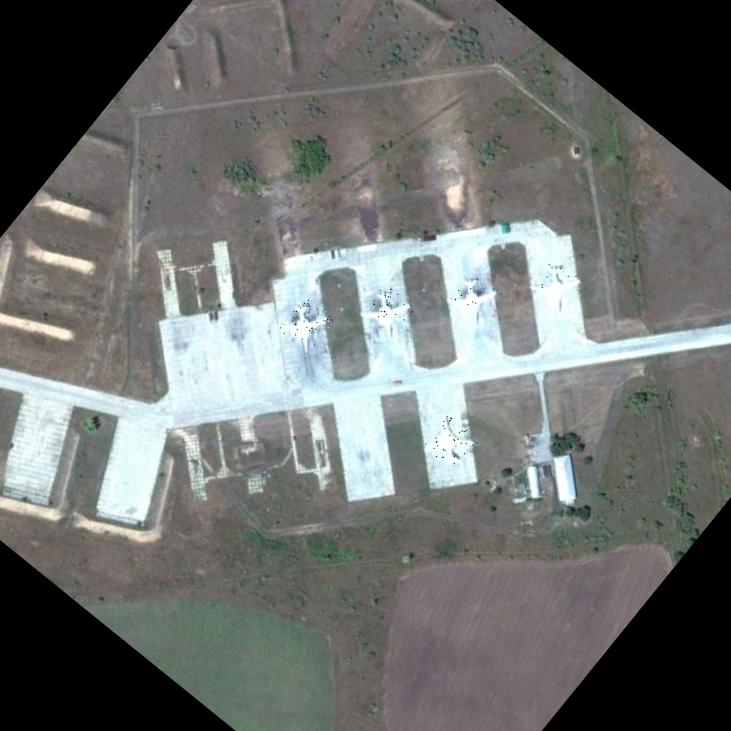A6: (276, 294, 336, 354), (420, 414, 479, 472), (528, 255, 586, 313), (446, 268, 504, 326), (358, 282, 416, 340)
